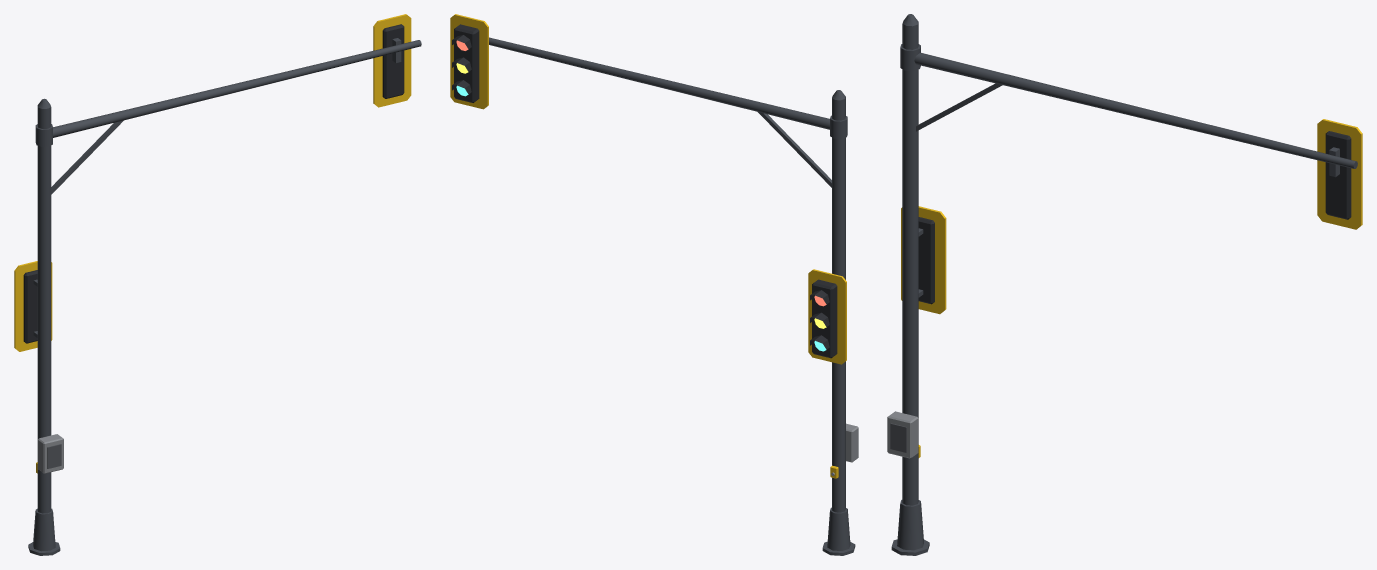
Rendered from traffic_light.glb.
3 views of the same model, side by side, from view 1: azimuth 30°, elevation 25°; view 2: azimuth 150°, elevation 25°; view 3: azimuth 330°, elevation 25° (orthographic). The views are drawn at different scales.
Parts seen in each view (by area): view 1: traffic_light__mesh; view 2: traffic_light__mesh; view 3: traffic_light__mesh.
Boxes of the visible parts, x1=… form: traffic_light__mesh: x1=14, y1=14, x2=421, y2=555; traffic_light__mesh: x1=450, y1=14, x2=858, y2=555; traffic_light__mesh: x1=887, y1=14, x2=1362, y2=555.
Bounding box in the file's own units: 5.77 × 6.29 × 0.872.
Materials: 4 (1 with a texture image).
